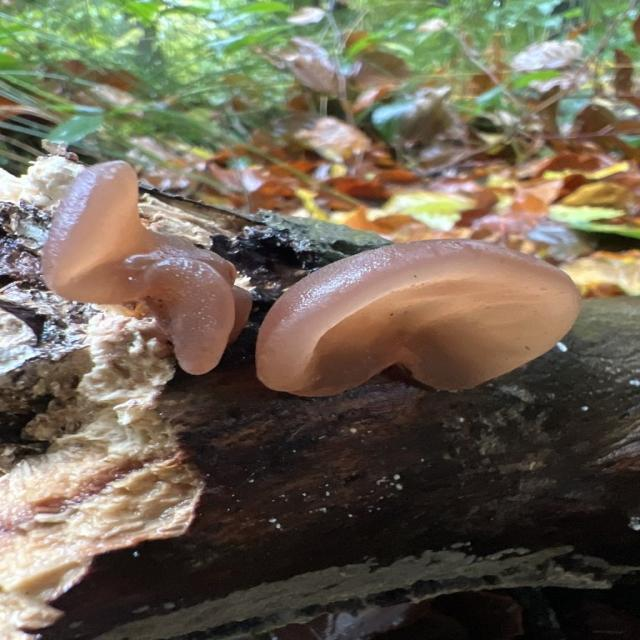Fase Muda: (255, 230, 584, 404), (40, 156, 254, 385)
